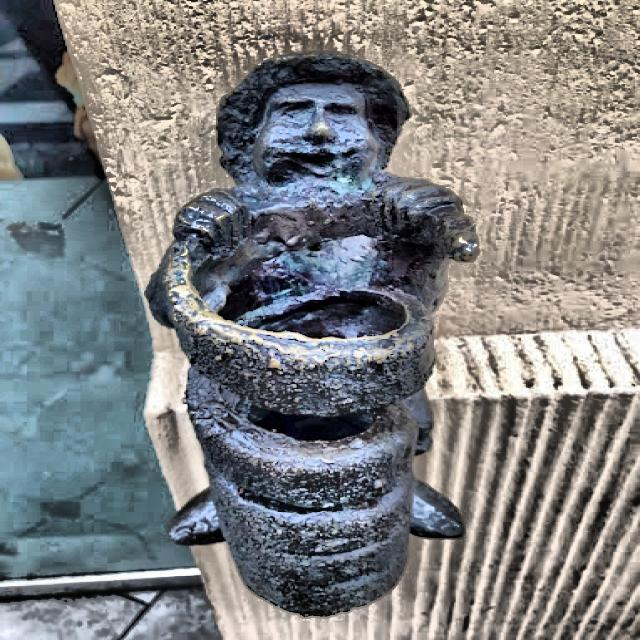Czimnejek: (140, 42, 484, 620)
